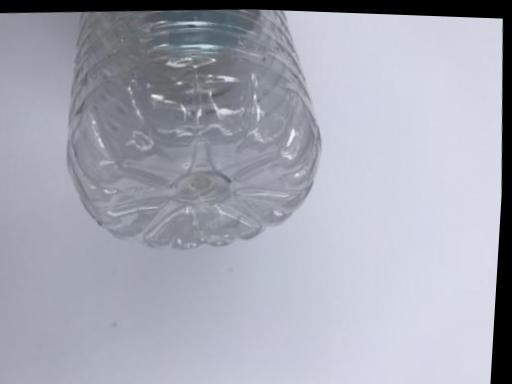plastic: (49, 2, 337, 264)
